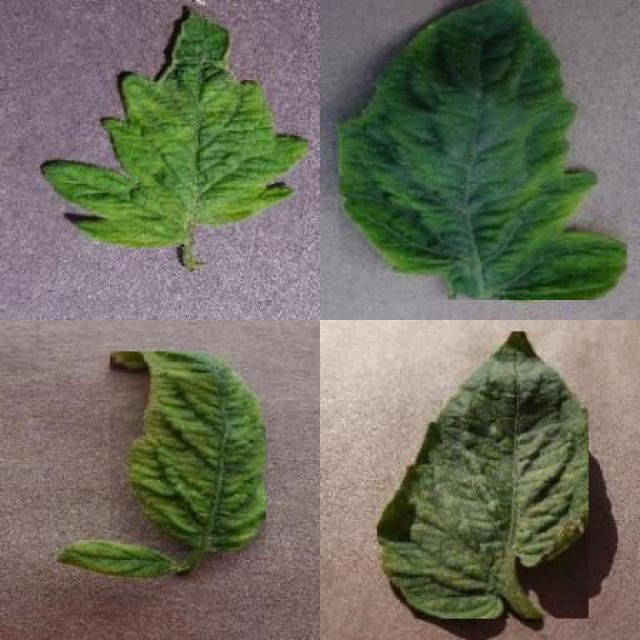Mosaic Virus: (39, 6, 308, 247)
Spider Mites: (377, 332, 589, 618)
Yellow Leaf Curl Virus: (339, 0, 627, 300), (110, 352, 266, 551), (57, 540, 177, 580)
